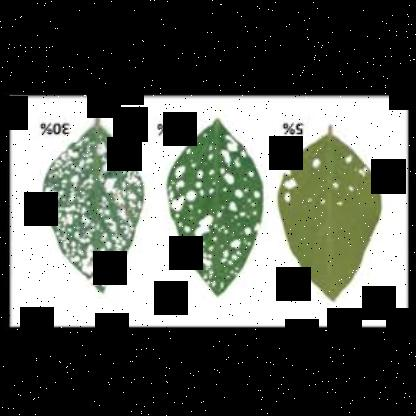agujero: (192, 212, 214, 237), (80, 244, 98, 274), (306, 154, 326, 170), (57, 210, 74, 228), (219, 146, 231, 170), (100, 175, 116, 193), (54, 201, 76, 213), (169, 196, 183, 212), (104, 215, 116, 233), (94, 142, 106, 160), (283, 175, 297, 189), (172, 164, 186, 178), (98, 160, 112, 174), (224, 136, 236, 152), (126, 191, 136, 208), (325, 180, 339, 192), (221, 173, 235, 185), (179, 238, 199, 246), (69, 172, 79, 188), (282, 189, 290, 207), (305, 194, 317, 206), (227, 238, 239, 250), (226, 200, 238, 212), (67, 186, 75, 204), (334, 200, 348, 210), (198, 254, 209, 266), (314, 198, 326, 208), (348, 182, 360, 192), (356, 166, 366, 178), (241, 226, 251, 238), (231, 189, 243, 199), (194, 168, 204, 180), (229, 252, 241, 262), (115, 208, 125, 220), (78, 217, 88, 229), (251, 223, 261, 233), (184, 192, 194, 202), (70, 255, 80, 265), (281, 170, 295, 177), (98, 264, 106, 276), (220, 247, 228, 259), (344, 155, 354, 163), (195, 248, 203, 258), (206, 187, 214, 197), (174, 181, 184, 189), (206, 168, 216, 176), (246, 169, 254, 179), (104, 241, 112, 251), (106, 263, 114, 273), (68, 148, 76, 158), (184, 145, 191, 155), (218, 282, 226, 290), (182, 226, 190, 234), (194, 181, 202, 189), (98, 247, 106, 254), (240, 150, 245, 160), (196, 190, 203, 197), (178, 220, 184, 228), (172, 214, 180, 220), (206, 153, 212, 161), (169, 190, 173, 200), (221, 256, 225, 266), (68, 247, 76, 252), (252, 192, 258, 198), (68, 242, 74, 248), (203, 272, 207, 280), (228, 260, 233, 266), (166, 186, 172, 190), (191, 163, 195, 167)
